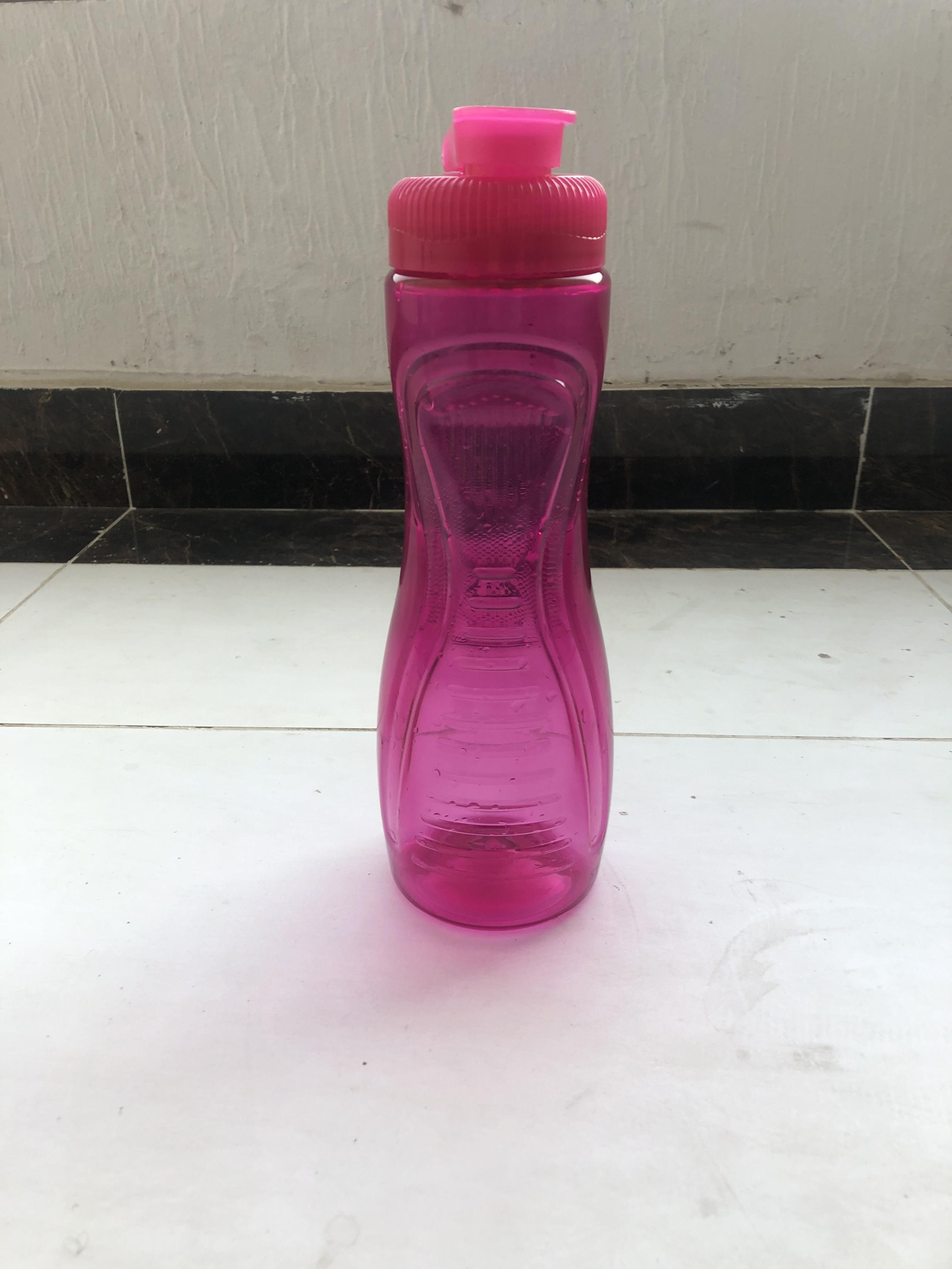gym bottle: (375, 93, 627, 939)
